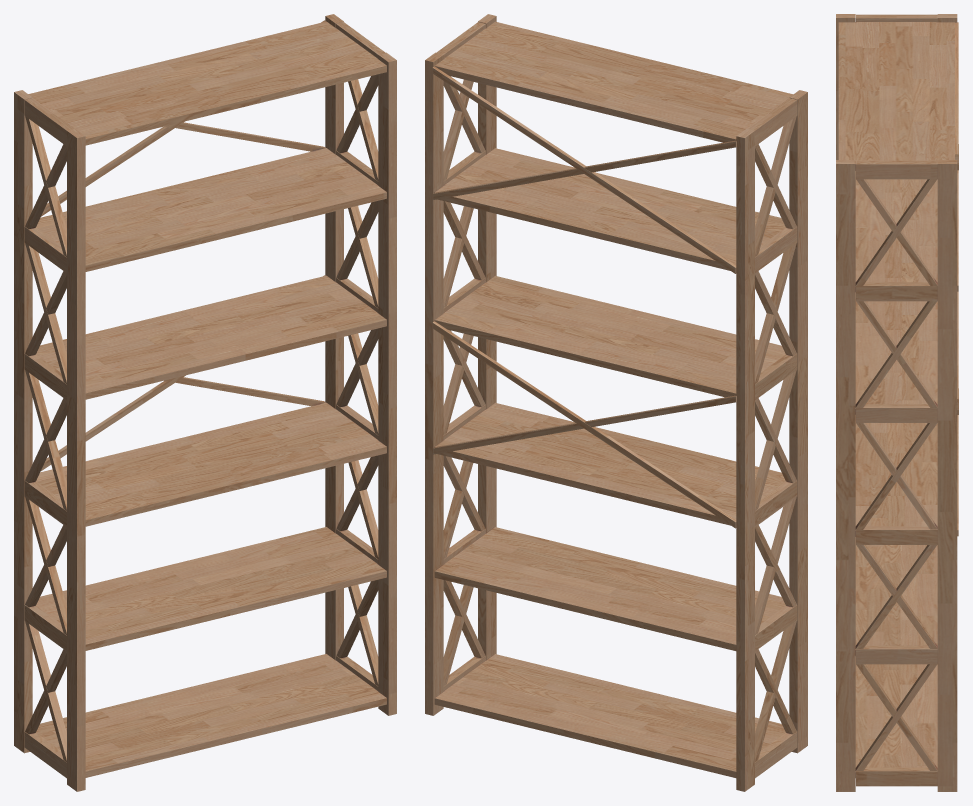
File: shelf.glb
3 renders of one model, left to right at view 1: azimuth 30°, elevation 25°; view 2: azimuth 150°, elevation 25°; view 3: azimuth 270°, elevation 25°, orthographic. The views are drawn at different scales.
Parts seen in each view (by area): view 1: Shelf_LP; view 2: Shelf_LP; view 3: Shelf_LP.
Boxes of the visible parts, <box> form: Shelf_LP: <box>14,14,396,791</box>; Shelf_LP: <box>425,14,807,791</box>; Shelf_LP: <box>836,14,958,791</box>.
Size of the model in its own units: 2.94 by 5.74 by 1.02.
Materials: 1 (1 with a texture image).
